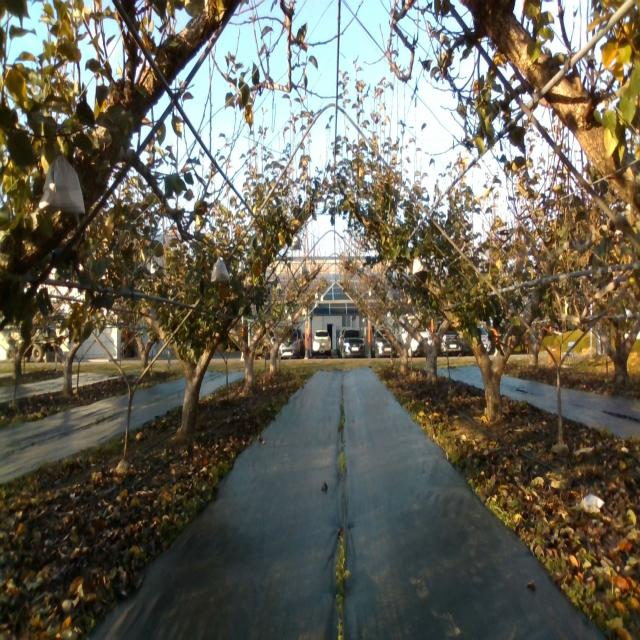pearbags: (38, 156, 86, 215), (211, 258, 229, 283), (412, 258, 423, 276)
